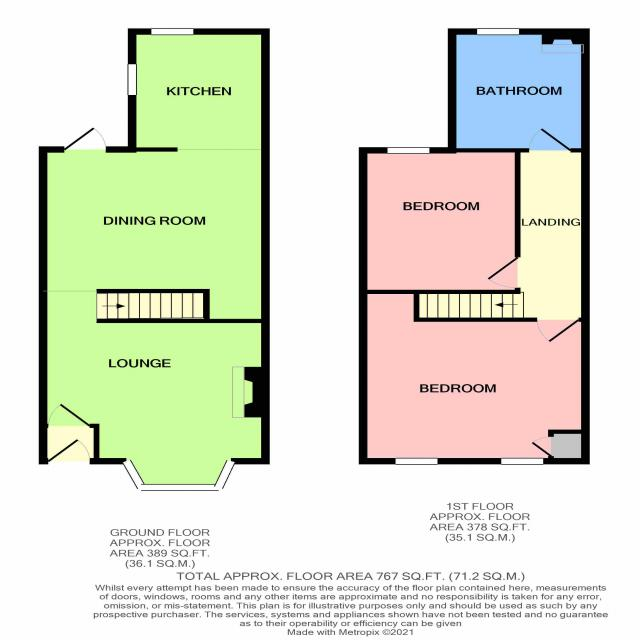DOOR: (47, 438, 92, 465), (63, 126, 107, 153), (485, 256, 521, 289), (536, 317, 580, 344), (528, 127, 572, 153), (48, 403, 91, 429)
ROOM: (38, 28, 270, 492), (358, 289, 591, 465), (358, 147, 521, 294)
WINDOW: (214, 459, 237, 492), (122, 459, 145, 491), (138, 483, 220, 491), (386, 146, 431, 155), (501, 457, 545, 466), (394, 457, 439, 465), (127, 64, 138, 96), (476, 28, 520, 36), (151, 28, 194, 36)
